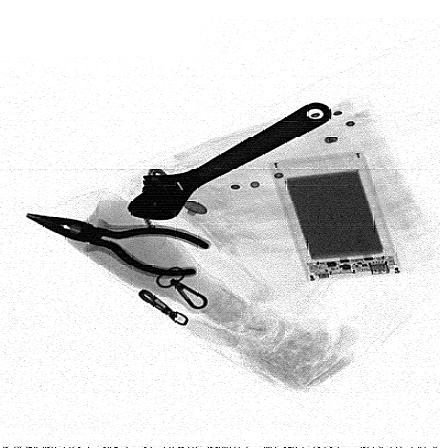Pliers: (26, 212, 211, 277)
Powerbank: (267, 152, 404, 282)
Wrench: (126, 103, 331, 220)
